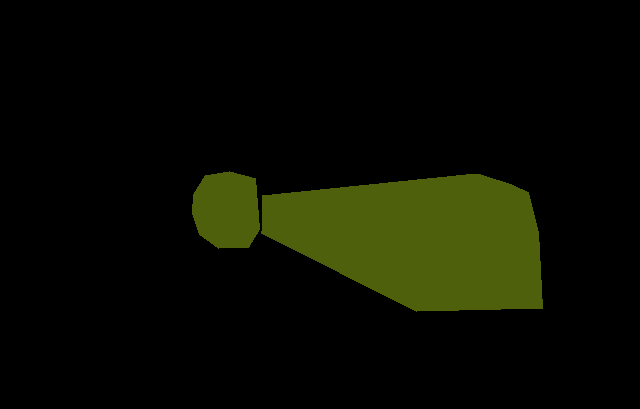Train: (261, 174, 543, 312), (192, 171, 260, 248)
